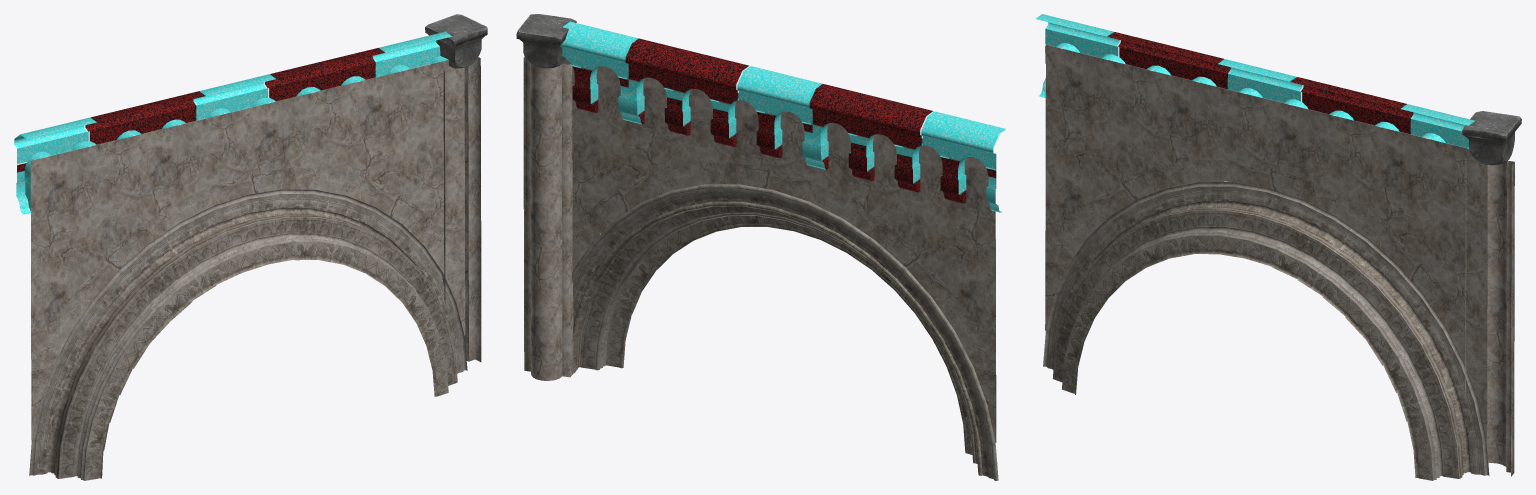
3 views of the same model, side by side, from view 1: azimuth 30°, elevation 25°; view 2: azimuth 150°, elevation 25°; view 3: azimuth 330°, elevation 25° (orthographic). The views are drawn at different scales.
Visible parts, largest first — view 1: SM_ArcadeCeiling02_LOD0; view 2: SM_ArcadeCeiling02_LOD0; view 3: SM_ArcadeCeiling02_LOD0.
Part boxes in pixels (box(x1,y1,x2,y2)): SM_ArcadeCeiling02_LOD0: box(14, 14, 487, 480); SM_ArcadeCeiling02_LOD0: box(516, 14, 1005, 480); SM_ArcadeCeiling02_LOD0: box(1035, 14, 1521, 480).
Size of the model in its own units: 8.76 by 6.18 by 1.34.
4 materials, 4 textured.
